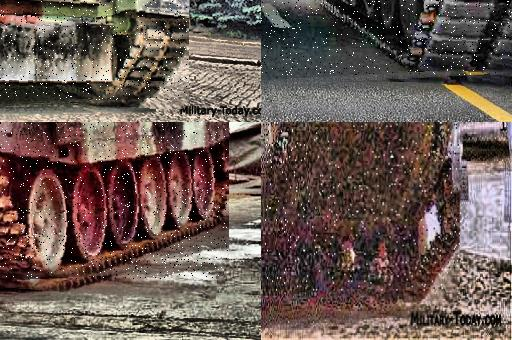tanks: (1, 123, 229, 280), (265, 123, 461, 292), (1, 1, 189, 101), (315, 1, 512, 76)
